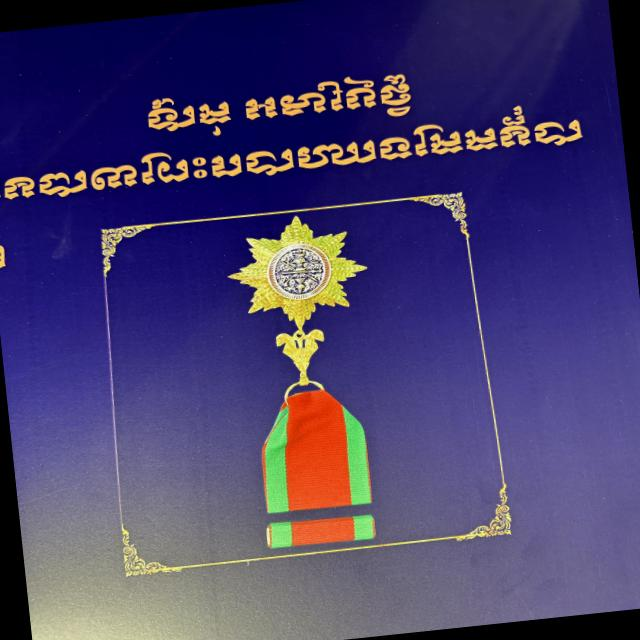1: (123, 63, 428, 142)
Yolov11kh: (0, 102, 588, 207)
